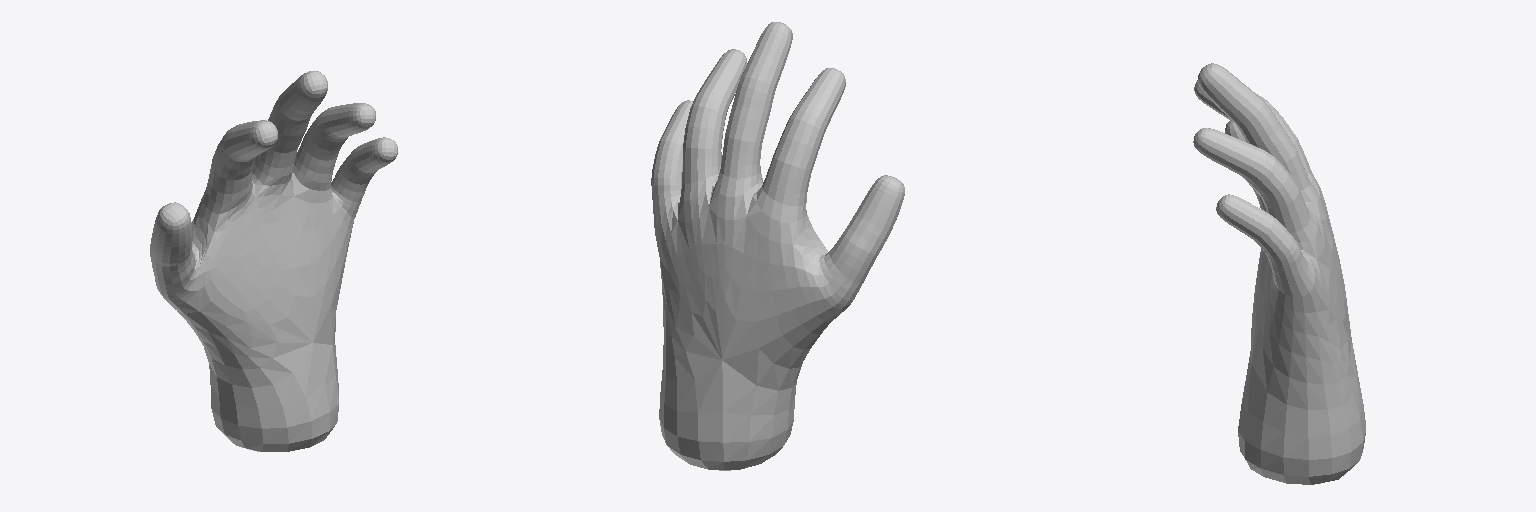
Rendered from handanimatsion13.obj.
3 views of the same model, side by side, from view 1: azimuth 30°, elevation 25°; view 2: azimuth 150°, elevation 25°; view 3: azimuth 270°, elevation 25° (orthographic).
Parts seen in each view (by area): view 1: Cube; view 2: Cube; view 3: Cube.
Part boxes in pixels (bbox=[...]): Cube: bbox=[150, 71, 397, 451]; Cube: bbox=[651, 22, 904, 470]; Cube: bbox=[1193, 63, 1365, 484].
Bounding box in the file's own units: 3.67 × 6.14 × 2.38.